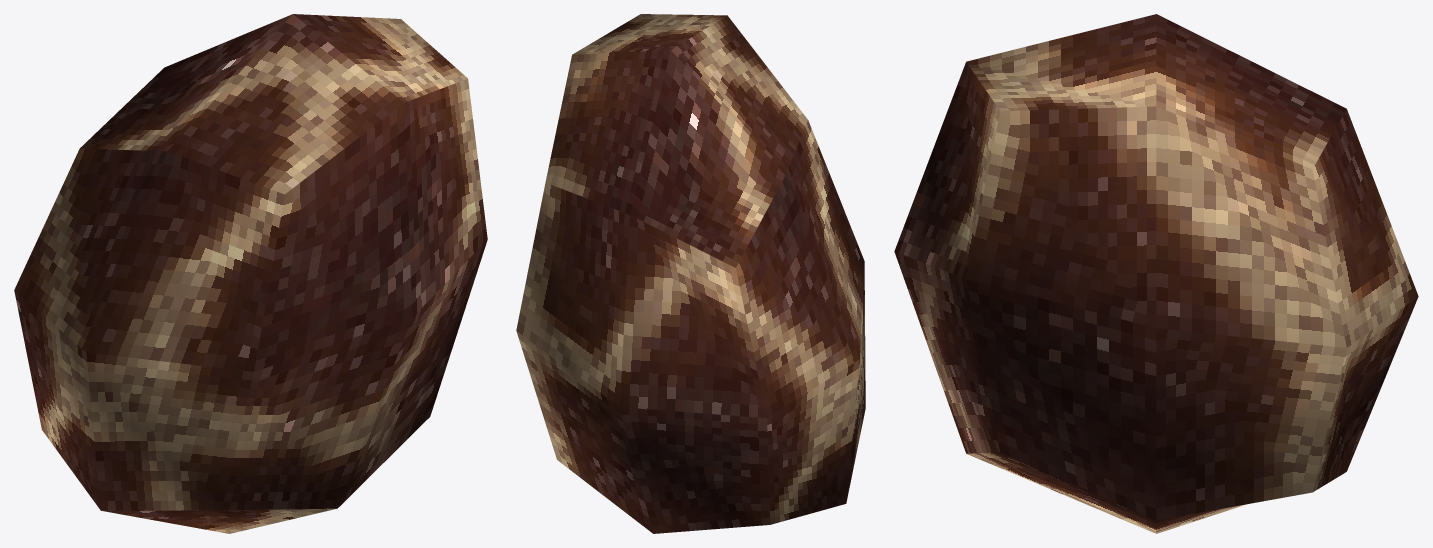
Rendered from Gib.glb.
3 renders of one model, left to right at view 1: azimuth 30°, elevation 25°; view 2: azimuth 150°, elevation 25°; view 3: azimuth 270°, elevation 25°, orthographic. The views are drawn at different scales.
Visible parts, largest first — view 1: Gib; view 2: Gib; view 3: Gib.
Boxes of the visible parts, box(x1,y1,x2,y2) form: Gib: box(14, 14, 487, 533); Gib: box(516, 14, 865, 533); Gib: box(894, 14, 1418, 533).
Size of the model in its own units: 0.5053 by 0.696 by 0.5969.
1 material, 1 textured.
